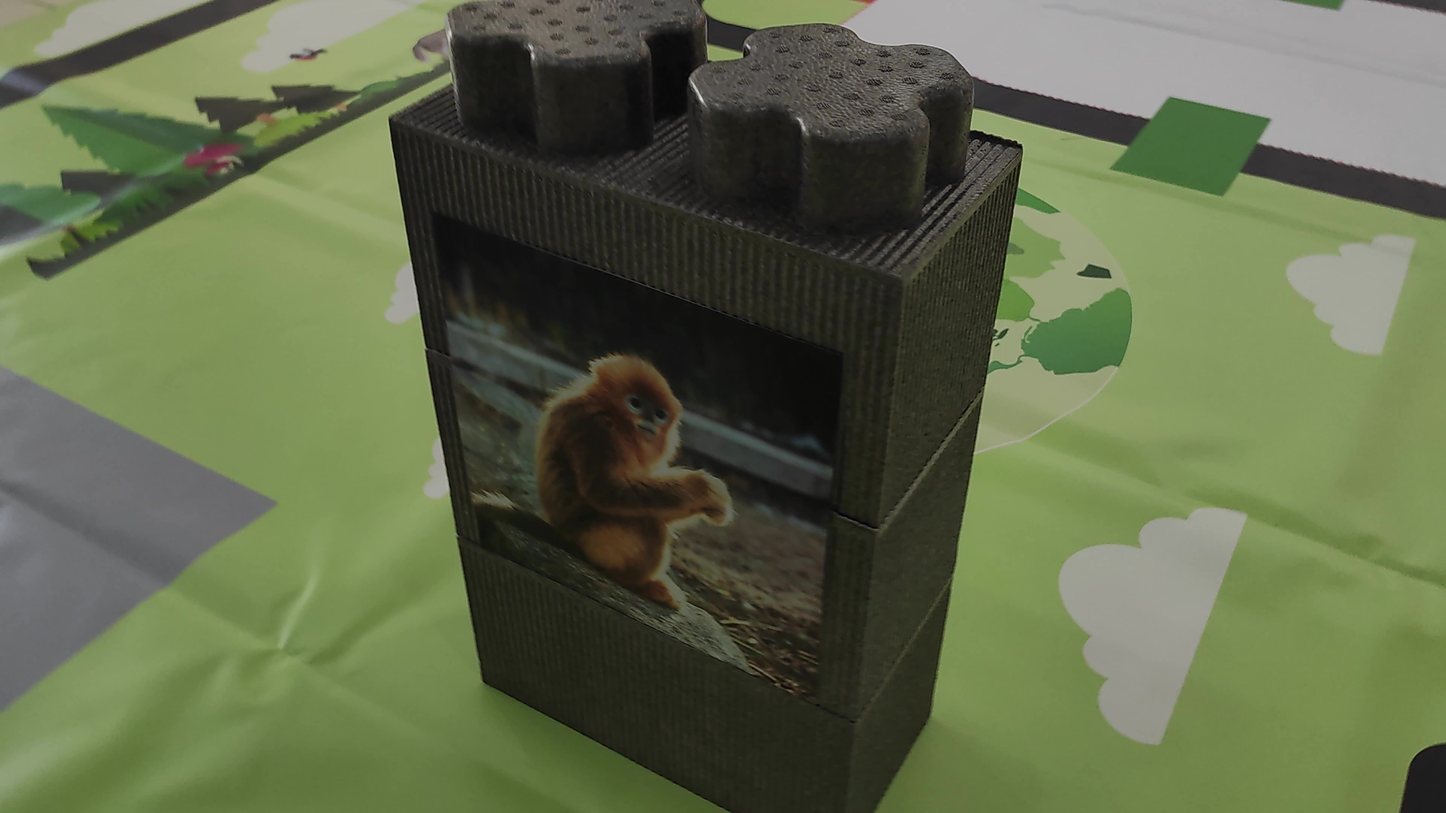monkey: (487, 341, 753, 624)
